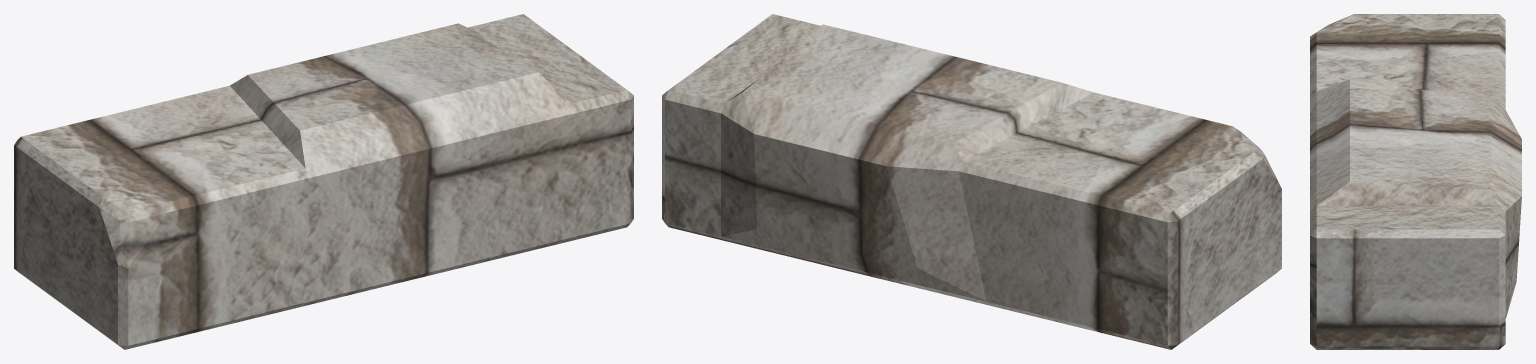
Rendered from Brick_C.fbx.
3 renders of one model, left to right at view 1: azimuth 30°, elevation 25°; view 2: azimuth 150°, elevation 25°; view 3: azimuth 270°, elevation 25°, orthographic. The views are drawn at different scales.
Parts seen in each view (by area): view 1: brick1; view 2: brick1; view 3: brick1.
Part boxes in pixels (<box>): brick1: <box>14,14,633,349</box>; brick1: <box>662,14,1281,349</box>; brick1: <box>1310,14,1521,349</box>.
Size of the model in its own units: 3.51 by 1.03 by 1.42.
